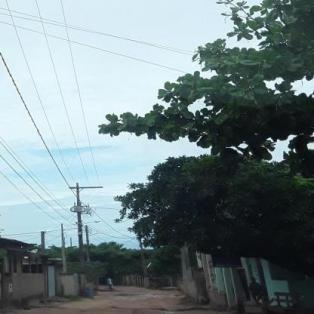Poste: (75, 181, 86, 298)
